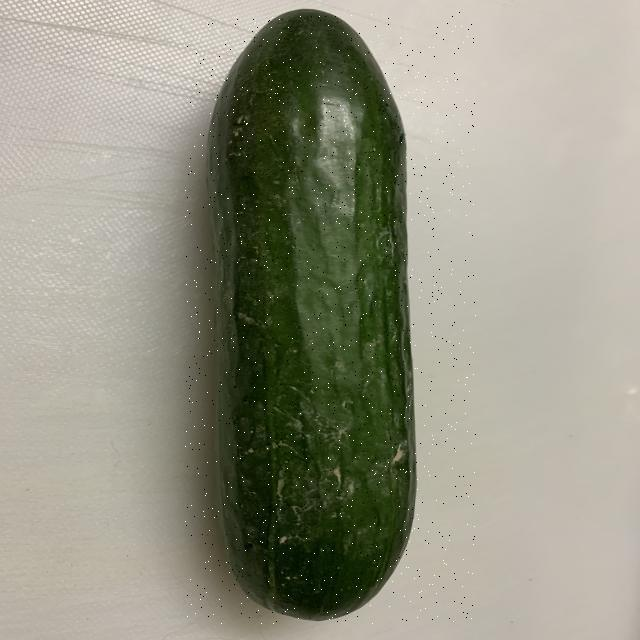Cucumber: (210, 11, 412, 621)
